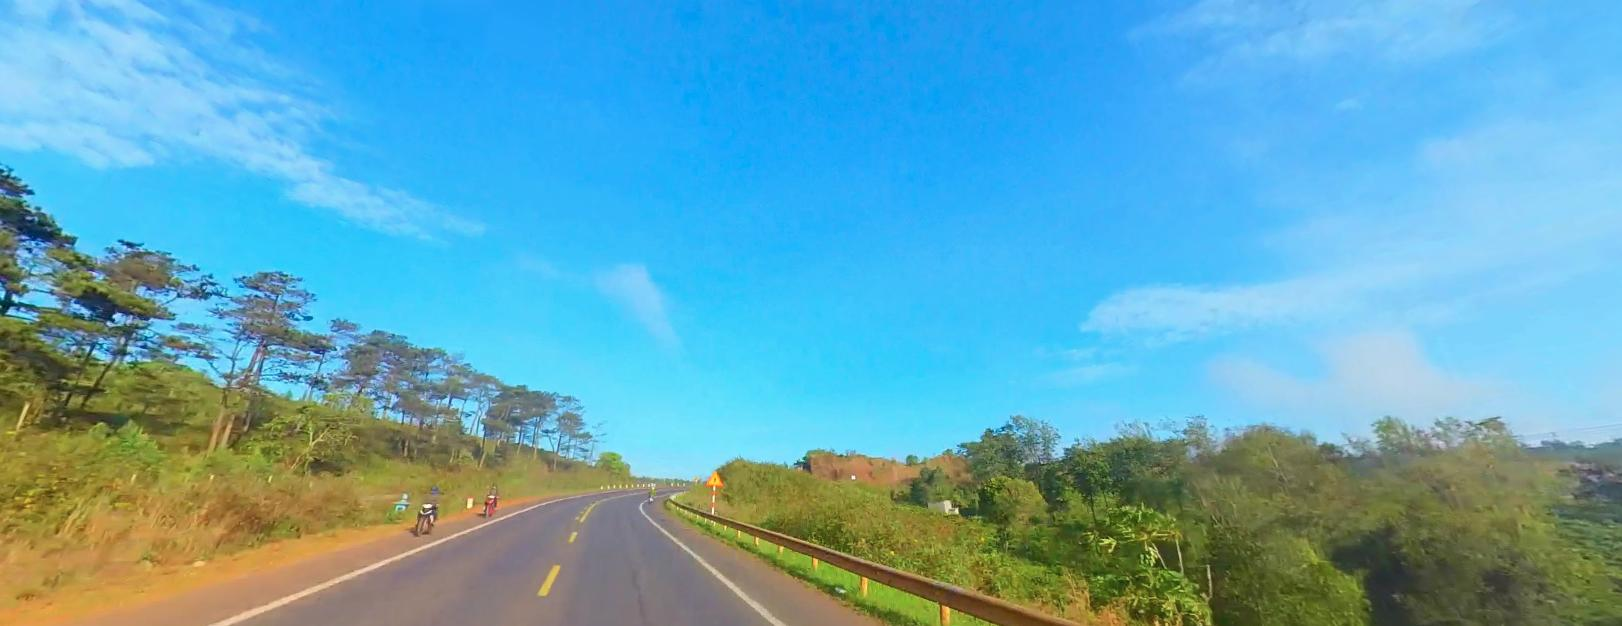Nguy hiem: (705, 470, 723, 486)
